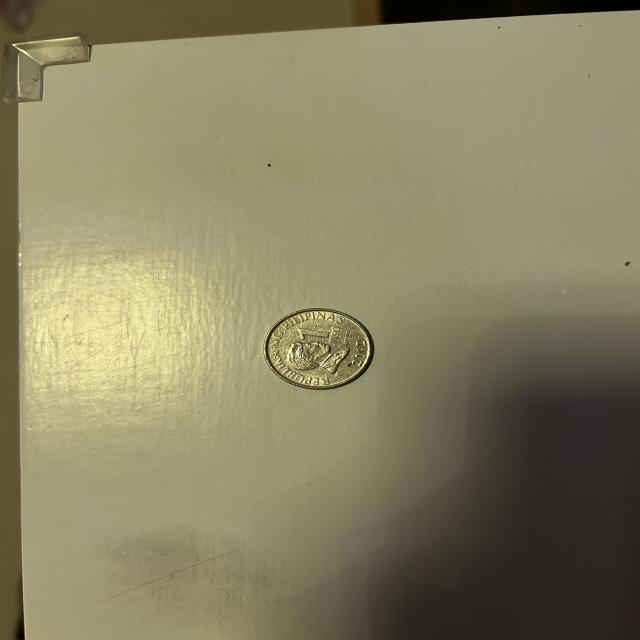1_Old_Front: (297, 323, 340, 347)
